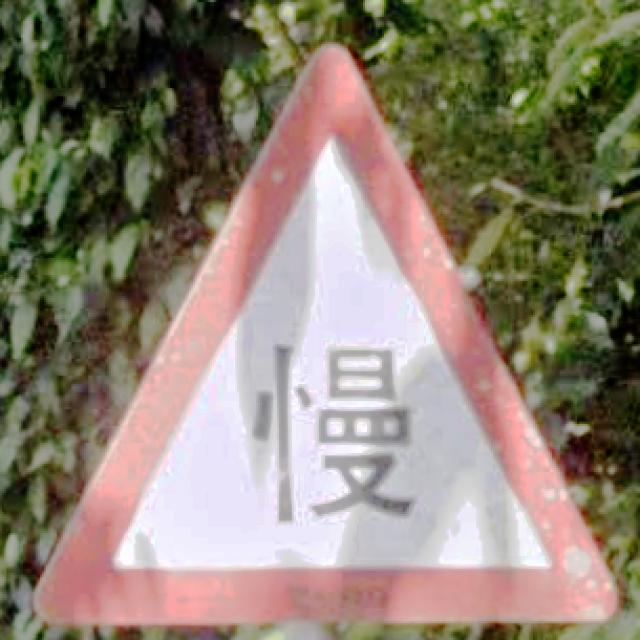slow: (34, 46, 621, 630)
